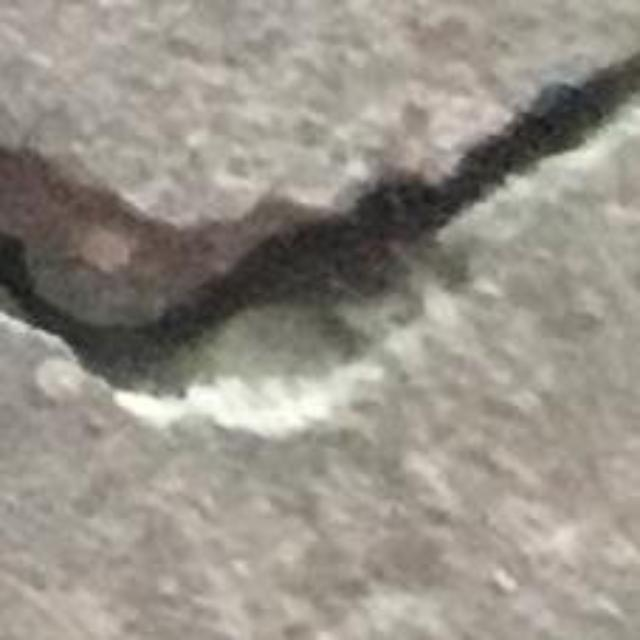crack: (0, 54, 639, 397)
